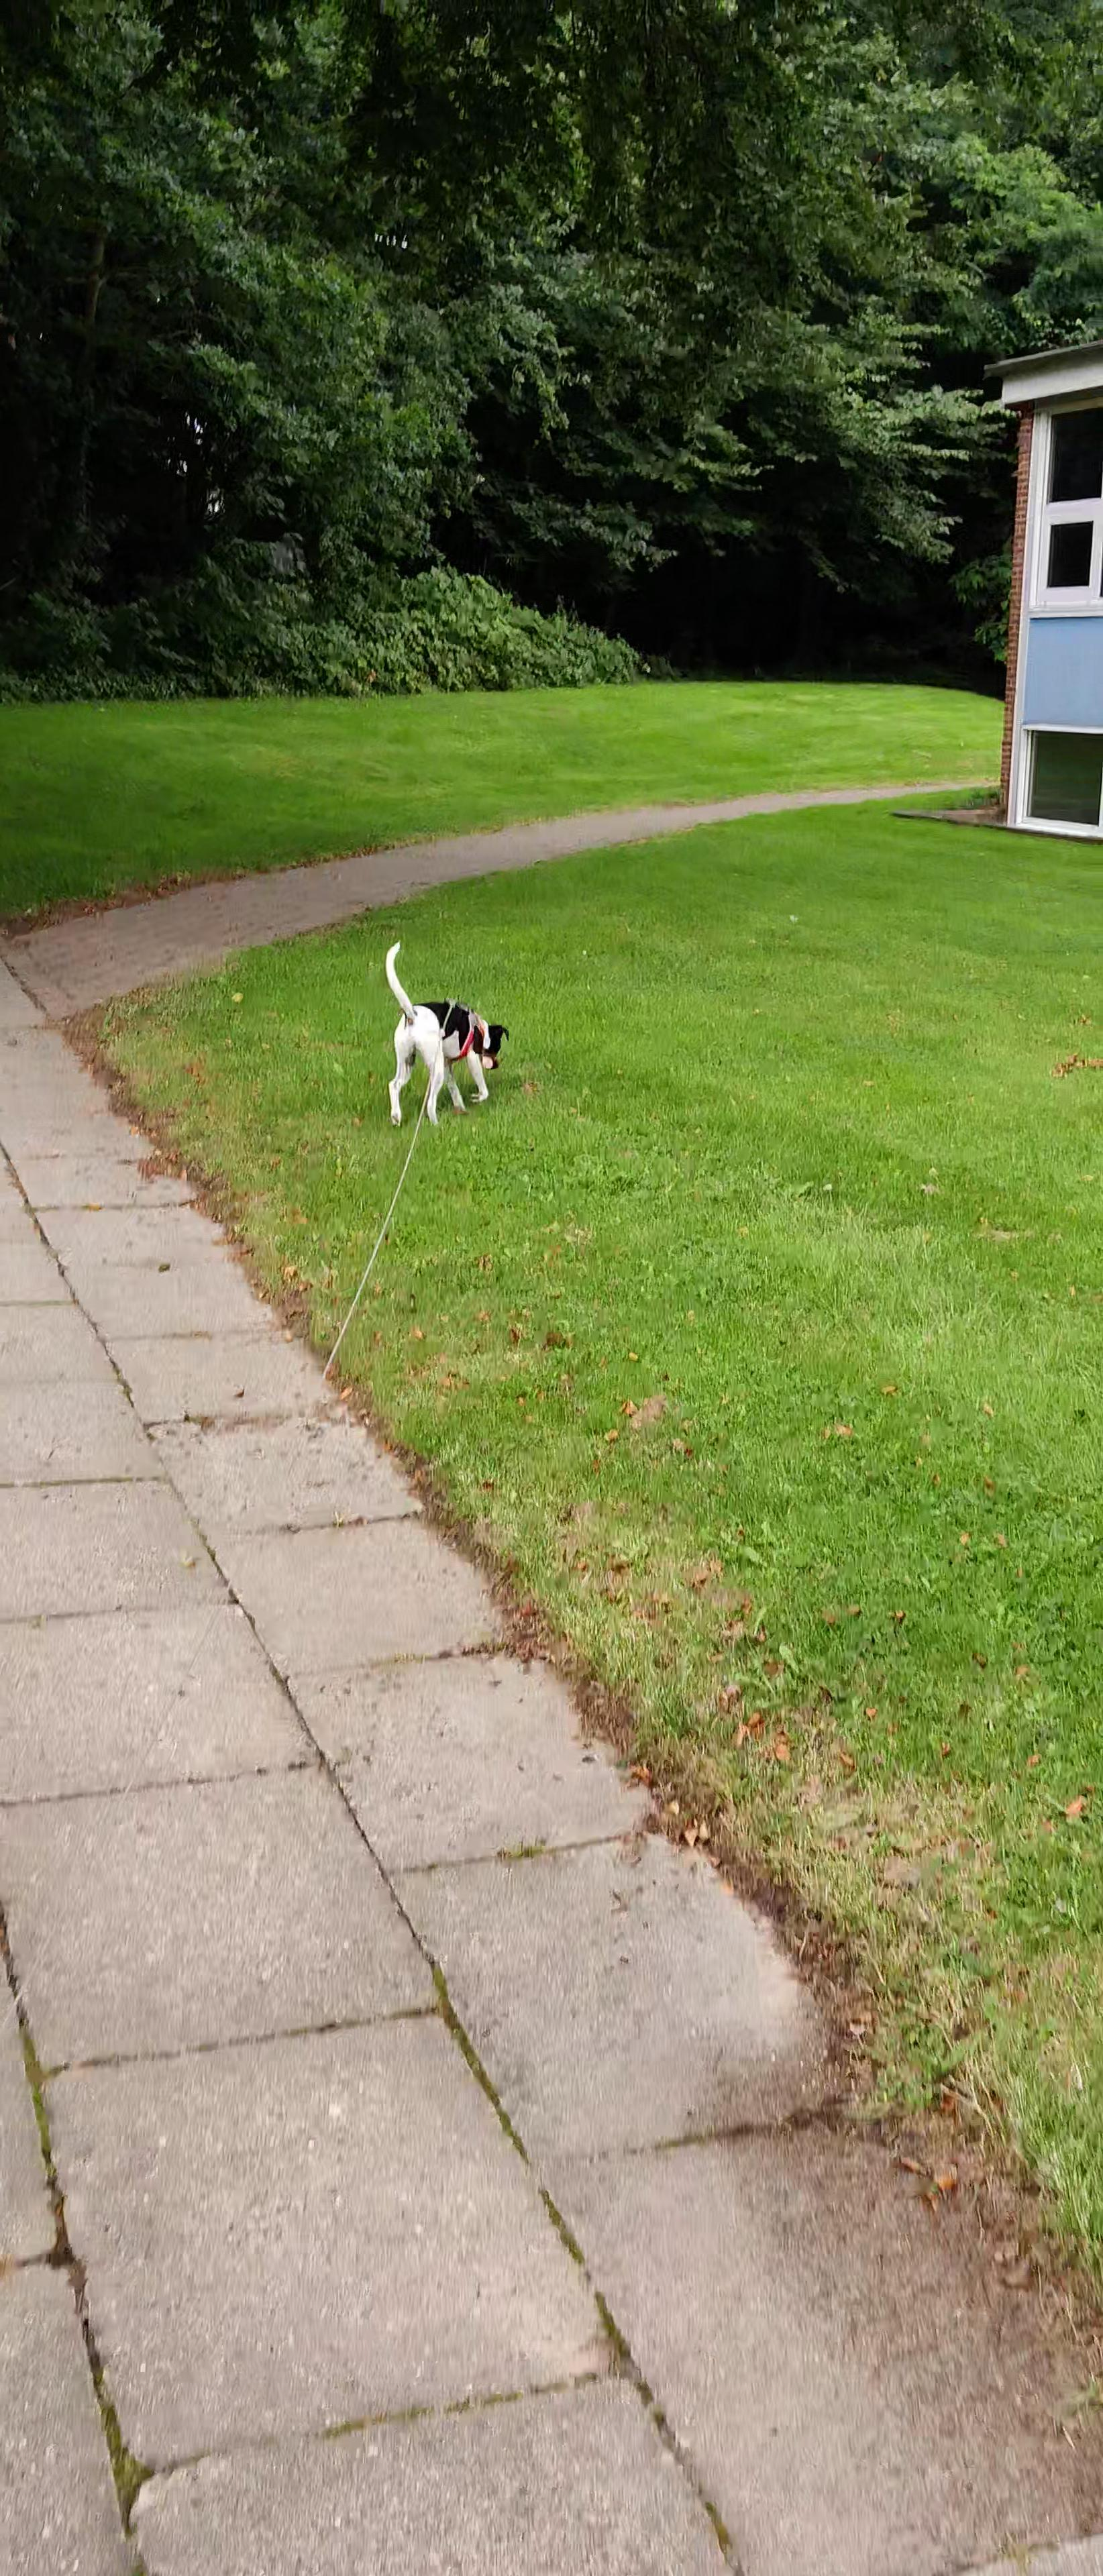Dog: (383, 936, 515, 1129)
